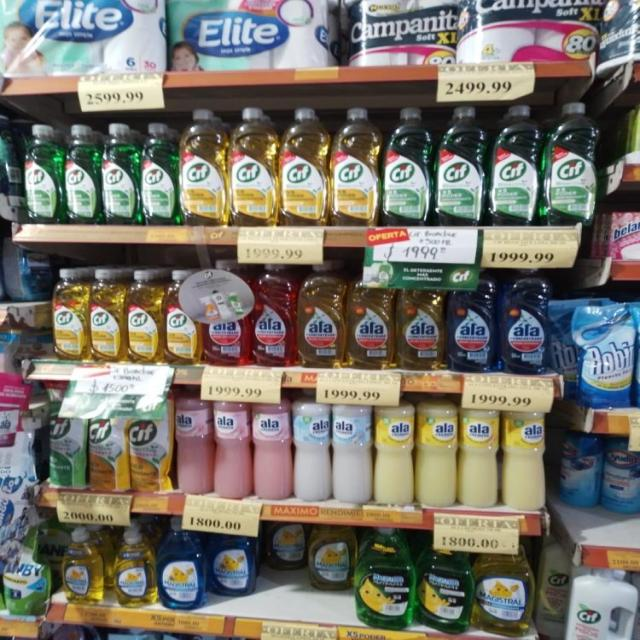ala_conc_amarillo: (396, 266, 445, 372), (298, 261, 346, 369), (348, 263, 394, 371)
ala_conc_azul: (499, 268, 552, 376), (448, 266, 496, 374)
ala_conc_rojo: (202, 260, 248, 367), (250, 261, 295, 367)
ala_crem_amarillo: (502, 402, 548, 512), (416, 397, 458, 508), (374, 395, 414, 507), (460, 402, 500, 509)
ala_crem_blanco: (566, 557, 636, 640), (332, 396, 372, 504), (293, 394, 331, 503)
ala_crem_rosado: (252, 392, 292, 502), (175, 389, 212, 496), (214, 394, 250, 499)
cif_conc_bot_amarilla: (229, 106, 278, 228), (331, 107, 380, 228), (280, 107, 328, 228), (179, 108, 227, 228), (126, 268, 163, 364), (164, 268, 200, 366), (52, 267, 88, 361), (90, 268, 124, 364)
cif_conc_botella_verde: (544, 101, 598, 227), (436, 104, 486, 228), (490, 104, 540, 228), (383, 106, 432, 227), (22, 123, 62, 225), (140, 121, 177, 227), (102, 122, 139, 227), (64, 123, 100, 225), (0, 111, 16, 221)
cif_conc_sachet_amarillo: (129, 388, 173, 493)
cif_conc_sachet_verde: (46, 384, 86, 489)
magistral_con_amarillo: (474, 539, 534, 637), (111, 525, 156, 608), (61, 525, 105, 604), (308, 524, 352, 592)
magistral_con_azul: (158, 517, 206, 611), (208, 521, 256, 598)
